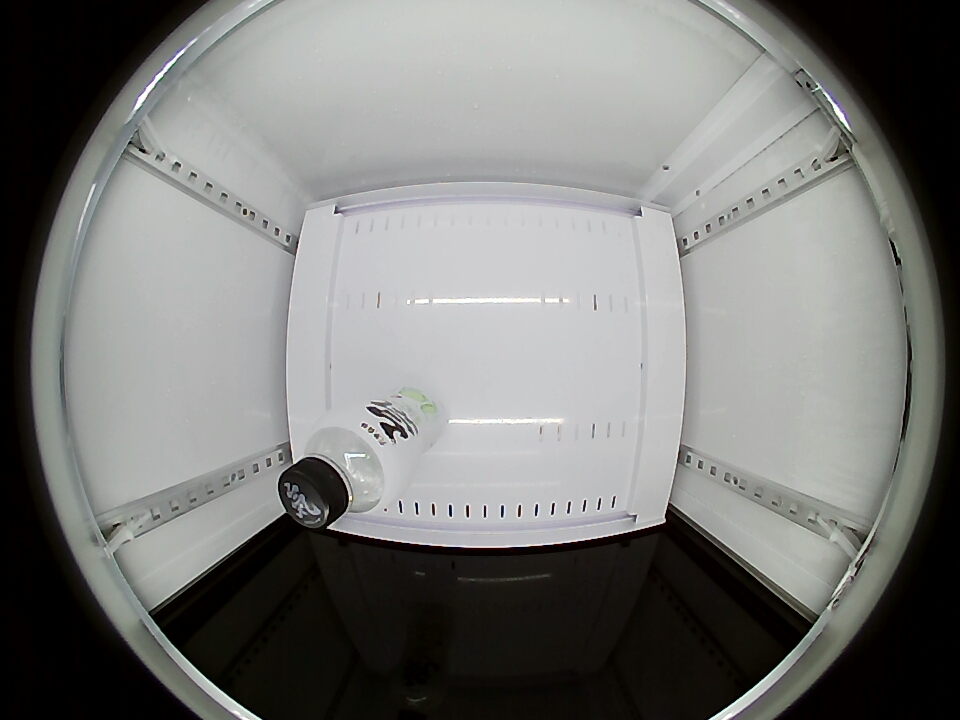yuanqishui: (278, 413, 407, 529)
